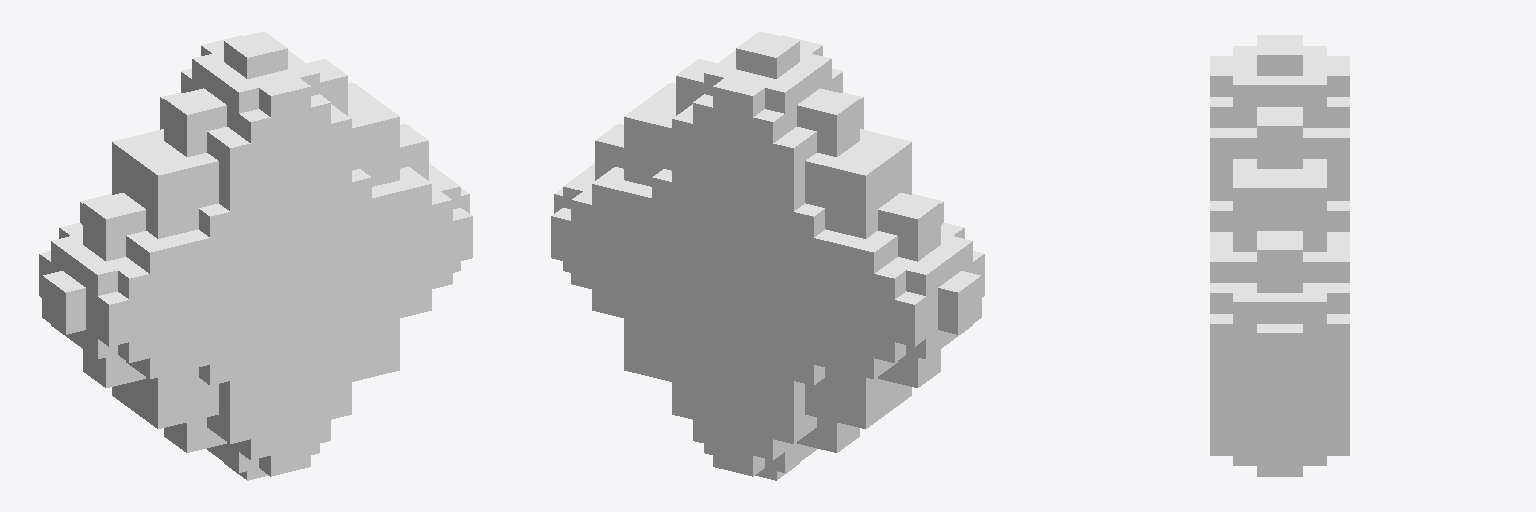
File: thunder.obj
The picture shows the model from 3 angles: view 1: azimuth 30°, elevation 25°; view 2: azimuth 150°, elevation 25°; view 3: azimuth 270°, elevation 25°; orthographic projection.
Visible parts, largest first — view 1: object 1; view 2: object 1; view 3: object 1.
Part boxes in pixels (bbox=[...]): object 1: bbox=[39, 31, 472, 480]; object 1: bbox=[551, 31, 984, 480]; object 1: bbox=[1210, 35, 1349, 476].
Size of the model in its own units: 2 by 2 by 0.6.